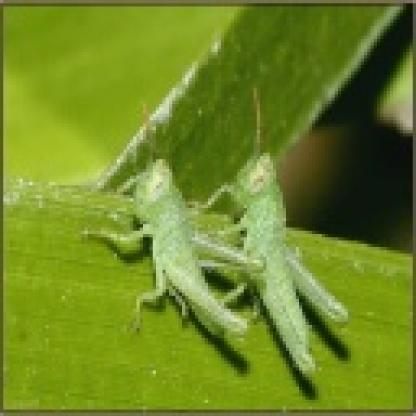grasshopper: (196, 133, 350, 397), (86, 155, 243, 346)
